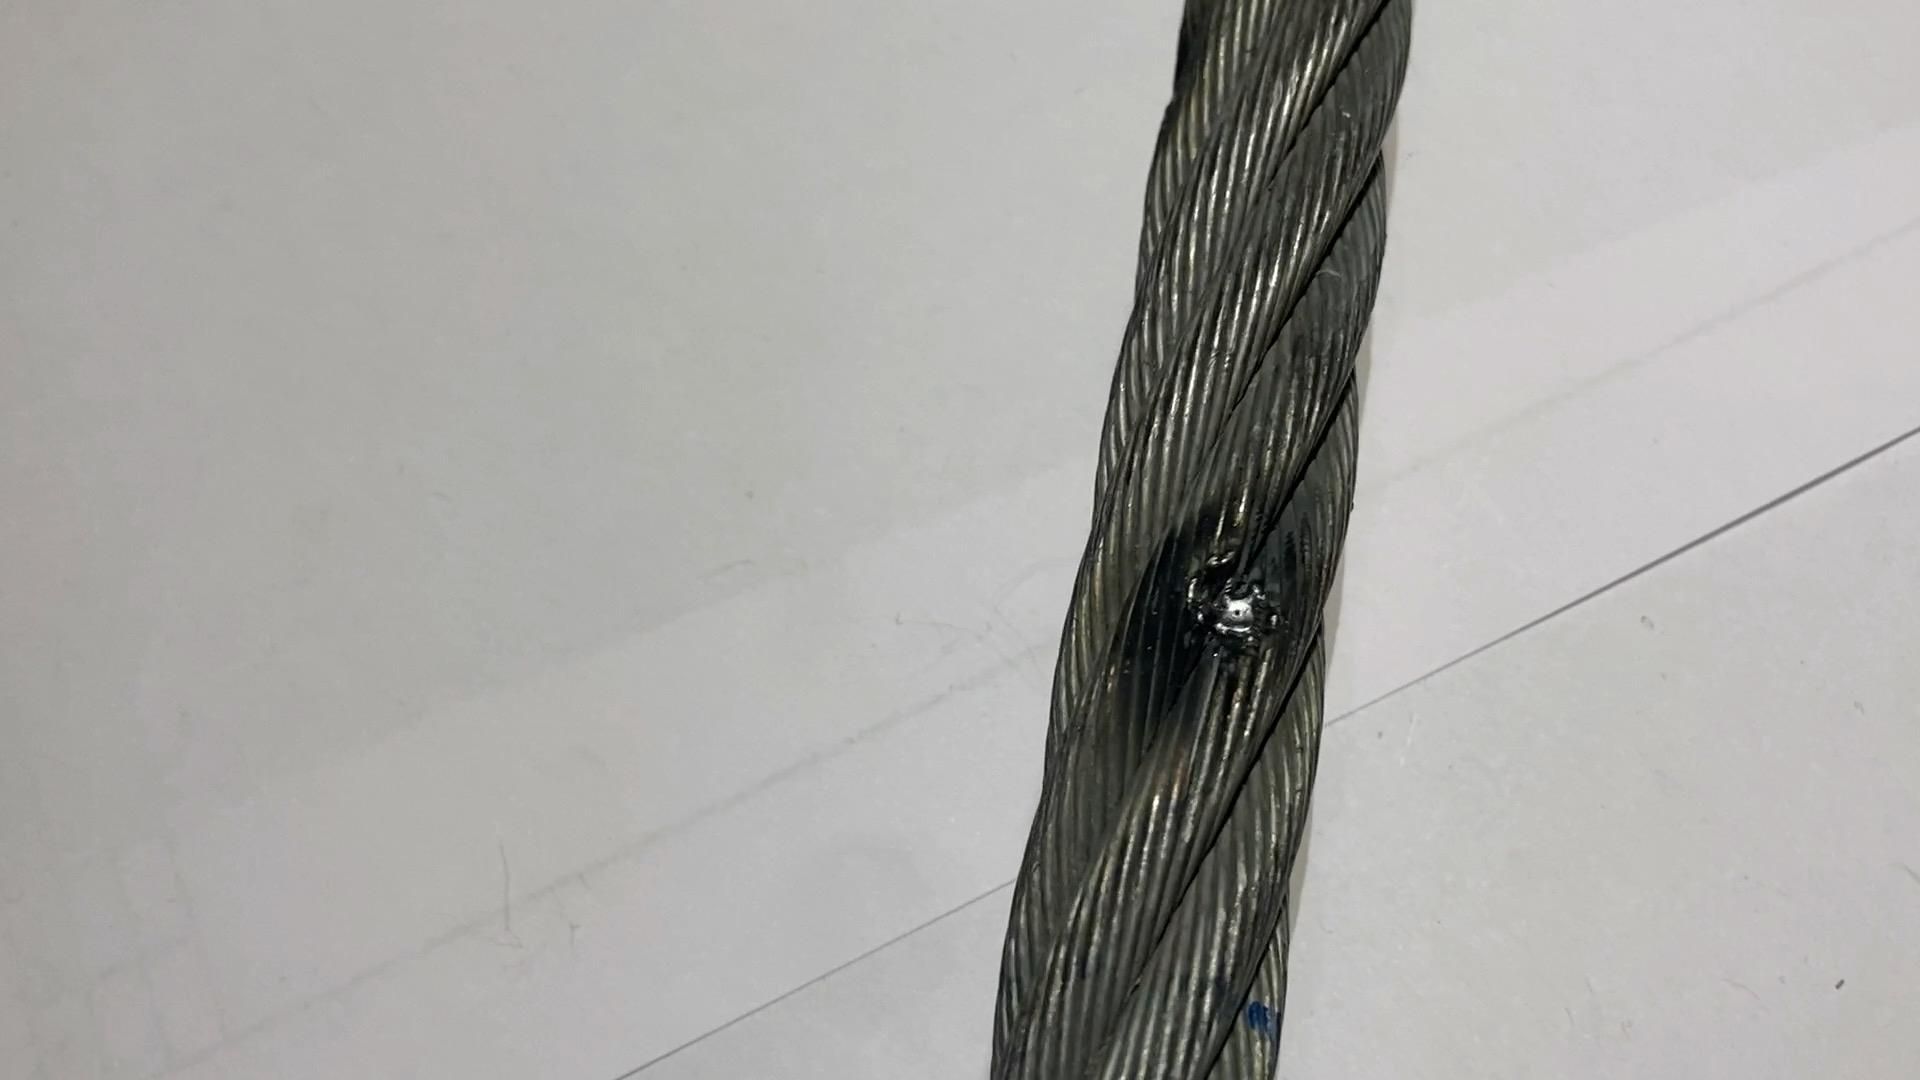thunderbolt: (1178, 493, 1298, 657)
